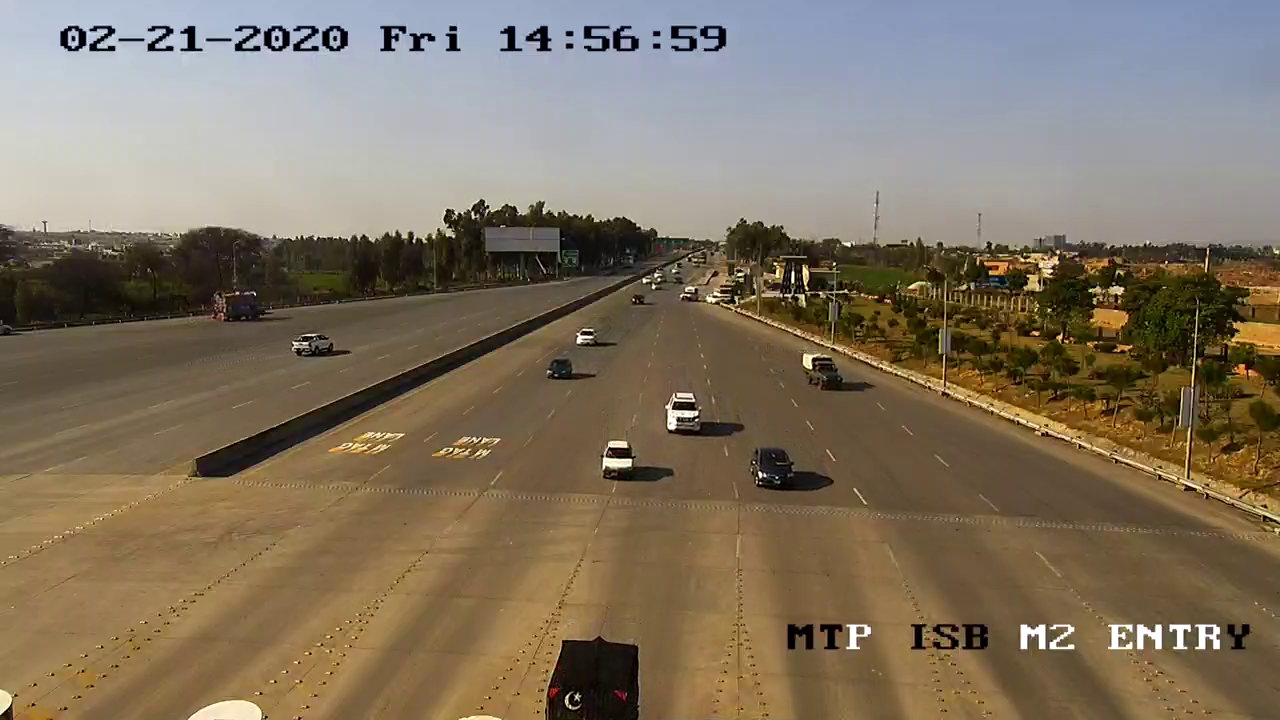f1: (649, 375, 717, 441), (742, 442, 805, 503), (592, 435, 642, 491)
